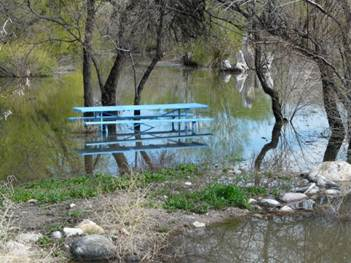tree: (75, 1, 174, 146), (244, 1, 305, 174)
water: (2, 74, 323, 167), (184, 193, 351, 262)
